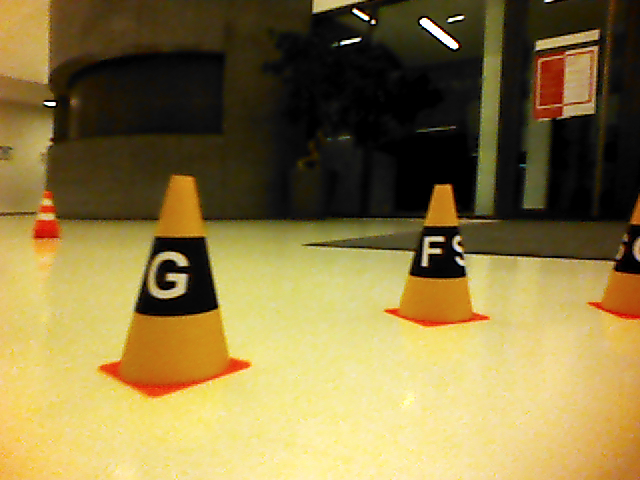yellowcone: (119, 172, 229, 384), (396, 181, 476, 323), (602, 186, 640, 315)
